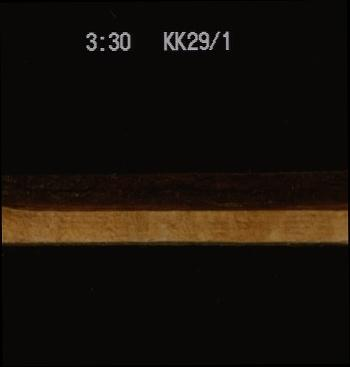wave: (1, 172, 347, 215)
